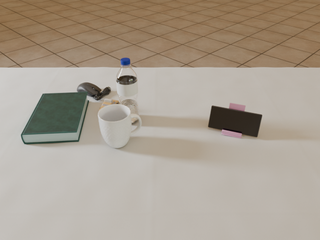book: (21, 92, 89, 144)
bottle: (116, 58, 139, 123)
cup: (98, 104, 141, 148)
mouse: (77, 82, 111, 100)
phone: (208, 106, 262, 137)
toy_car: (99, 99, 119, 110)
